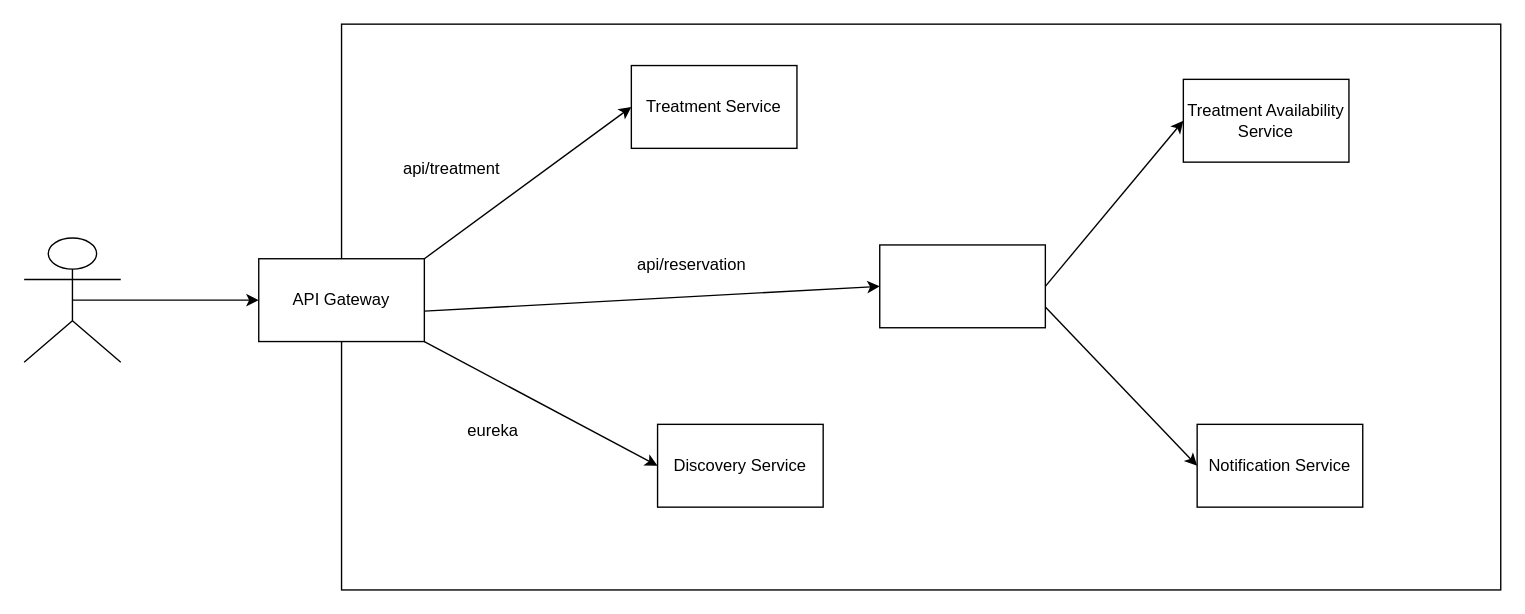
Image size: 1525x614. Some labels were removed from this diagram. The shapes that lost their labels are listed below. From the top down, each one's centre as x and y in pixels, then its label:
At (72,299): "Client".
At (961,286): "Reservation Service".
